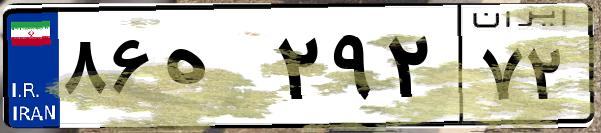2: (270, 28, 330, 110), (385, 28, 445, 110), (525, 38, 570, 115)
6: (110, 28, 158, 98)
7: (475, 38, 525, 113)
8: (57, 26, 110, 100)
9: (330, 28, 385, 110)
ه: (158, 20, 270, 120)
